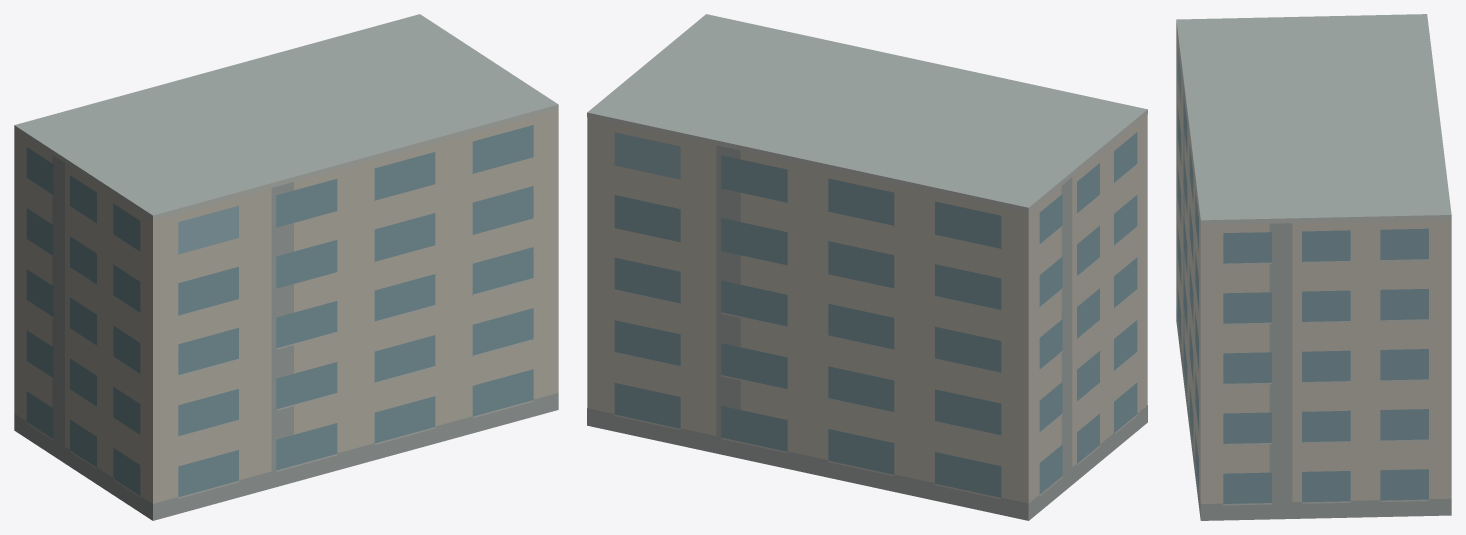
Rendered from residential-0a8c5cbc-2bce-4901-96e8-f442e542ca80.glb.
The picture shows the model from 3 angles, left to right: view 1: azimuth 30°, elevation 25°; view 2: azimuth 150°, elevation 25°; view 3: azimuth 270°, elevation 25°; orthographic projection. The views are drawn at different scales.
Visible parts, largest first — view 1: residential-0a8c5cbc-2bce-4901-96e8-f442e542ca80.tmp; view 2: residential-0a8c5cbc-2bce-4901-96e8-f442e542ca80.tmp; view 3: residential-0a8c5cbc-2bce-4901-96e8-f442e542ca80.tmp.
Part boxes in pixels (bbox=[...]): residential-0a8c5cbc-2bce-4901-96e8-f442e542ca80.tmp: bbox=[14, 14, 558, 520]; residential-0a8c5cbc-2bce-4901-96e8-f442e542ca80.tmp: bbox=[587, 14, 1147, 520]; residential-0a8c5cbc-2bce-4901-96e8-f442e542ca80.tmp: bbox=[1176, 14, 1451, 520].
Bounding box in the file's own units: 22.46 × 15.25 × 12.67.
